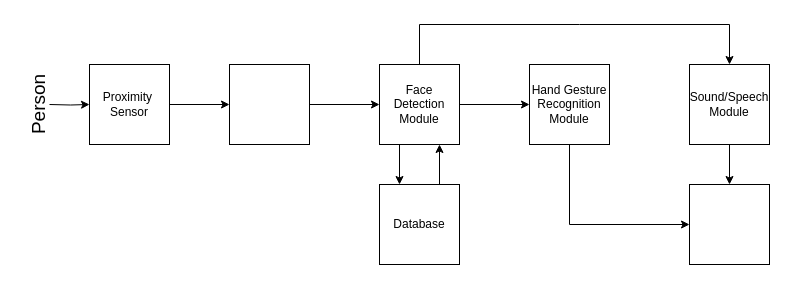
Image size: 787x282. Some labels were removed from this diagram. The shapes that lost their labels are listed below. From the top down, each one's centre as x and y in pixels, then its label:
the point at 269,104: Camera
the point at 729,224: Latch Module
